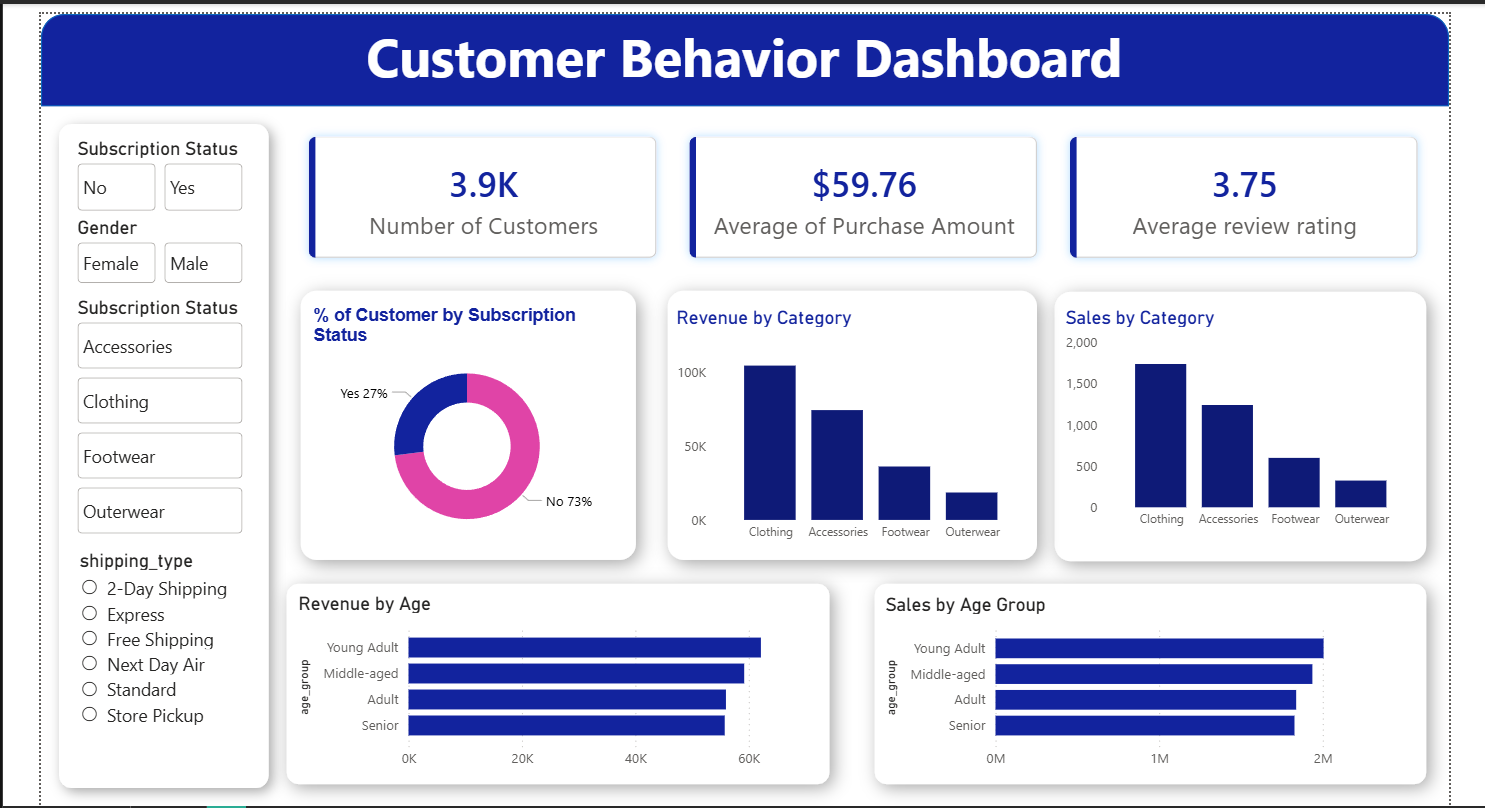

Layout of this report page (visuals, bound fields, positions):
{"tool":"powerbi","page":{"name":"Page 1","canvas":[1280,720],"ordinal":0},"visuals":[{"type":"cardVisual","fields":{"Data":["public customer.Number of Customers","public customer.Average of Purchase Amount","public customer.Average review rating"]},"box":[215,84,1065,166],"z":0},{"type":"shape","box":[202.5,496.8,534.7,223.5],"z":0,"group":"g1"},{"type":"shape","box":[737.3,496.8,542.7,223.5],"z":0,"group":"g2"},{"type":"shape","box":[0,0,1280,84],"z":1000},{"type":"clusteredBarChart","title":"Revenue by Age","fields":{"Y":["Sum(public customer.purchase_amount)"],"Category":["public customer.age_group"]},"box":[228.4,524.7,480.9,169.6],"z":1000,"group":"g1"},{"type":"clusteredBarChart","title":"Sales by Age Group","fields":{"Y":["Sum(public customer.customer_id)"],"Category":["public customer.age_group"]},"box":[763,525.9,490.8,168.6],"z":1000,"group":"g2"},{"type":"textbox","box":[172,0,935,77],"z":2000},{"type":"shape","box":[215,231,346,286],"z":3000},{"type":"donutChart","title":"% of Customer by Subscription Status","fields":{"Category":["public customer.subscription_status"],"Y":["CountNonNull(public customer.customer_id)"]},"box":[243,265,289,221],"z":4000},{"type":"shape","box":[900.9,231.5,379.1,286.3],"z":5000},{"type":"shape","box":[549,231,377,286],"z":6000},{"type":"clusteredColumnChart","title":"Revenue by Category","fields":{"Y":["Sum(public customer.purchase_amount)"],"Category":["public customer.category"]},"box":[572.7,265.4,328.2,223.5],"z":7000},{"type":"clusteredColumnChart","title":"Sales by Category","fields":{"Y":["CountNonNull(public customer.customer_id)"],"Category":["public customer.category"]},"box":[926,265,328,212],"z":8000},{"type":"shape","box":[0,83.8,223.5,636.5],"z":9000},{"type":"advancedSlicerVisual","title":"Subscription Status","fields":{"Values":["public customer.subscription_status"]},"box":[28,112,160,72],"z":10000},{"type":"advancedSlicerVisual","title":"Gender","fields":{"Values":["public customer.gender"]},"box":[28,184,160,66],"z":11000},{"type":"advancedSlicerVisual","title":"Subscription Status","fields":{"Values":["public customer.category"]},"box":[28,256,160,221],"z":12000},{"type":"listSlicer","fields":{"Values":["public customer.shipping_type"]},"box":[30,486,158,212],"z":13000},{"type":"group","id":"g1","title":"Revenue By Age","box":[202.5,496.8,534.7,223.5],"z":15000},{"type":"group","id":"g2","title":"Revenue By Age","box":[737.3,496.8,542.7,223.5],"z":16001}]}

Visuals, with their boxes on the page's 1280x720 design canvas (x1, y1, x2, y2). These are canvas units, not pixel positions in the 1485x808 screenshot, which may show the page scaled, cropped or inside an application window:
cardVisual - public customer.Number of Customers x public customer.Average of Purchase Amount: 215 84 1280 250
shape: 202 497 737 720
shape: 737 497 1280 720
shape: 0 0 1280 84
"Revenue by Age" clusteredBarChart: 228 525 709 694
"Sales by Age Group" clusteredBarChart: 763 526 1254 694
textbox: 172 0 1107 77
shape: 215 231 561 517
"% of Customer by Subscription Status" donutChart: 243 265 532 486
shape: 901 232 1280 518
shape: 549 231 926 517
"Revenue by Category" clusteredColumnChart: 573 265 901 489
"Sales by Category" clusteredColumnChart: 926 265 1254 477
shape: 0 84 224 720
"Subscription Status" advancedSlicerVisual: 28 112 188 184
"Gender" advancedSlicerVisual: 28 184 188 250
"Subscription Status" advancedSlicerVisual: 28 256 188 477
listSlicer - public customer.shipping_type: 30 486 188 698
"Revenue By Age" group: 202 497 737 720
"Revenue By Age" group: 737 497 1280 720
